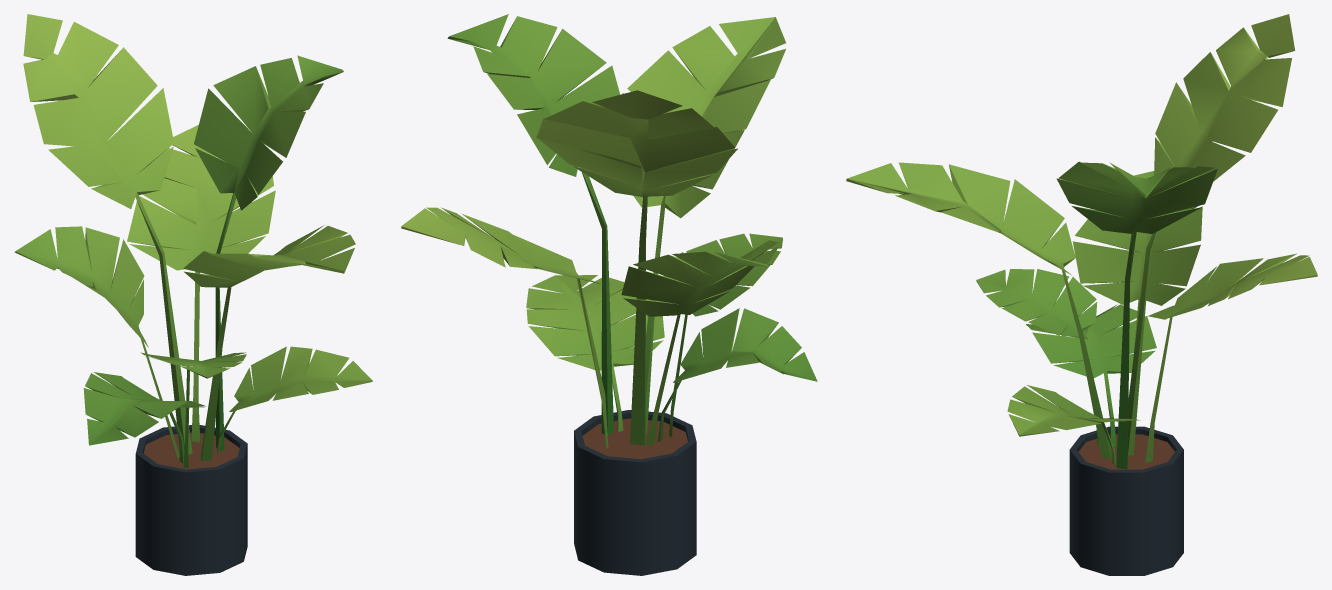
The model's file is SM_Props_Plant_06.fbx.
The picture shows the model from 3 angles, left to right: view 1: azimuth 30°, elevation 25°; view 2: azimuth 150°, elevation 25°; view 3: azimuth 270°, elevation 25°; orthographic projection. The views are drawn at different scales.
Parts seen in each view (by area): view 1: SM_Props_Plant_06; view 2: SM_Props_Plant_06; view 3: SM_Props_Plant_06.
Part boxes in pixels (<box>): SM_Props_Plant_06: <box>14,14,372,575</box>; SM_Props_Plant_06: <box>401,14,817,575</box>; SM_Props_Plant_06: <box>846,14,1317,575</box>.
Bounding box in the file's own units: 0.8583 × 1.32 × 1.13.
